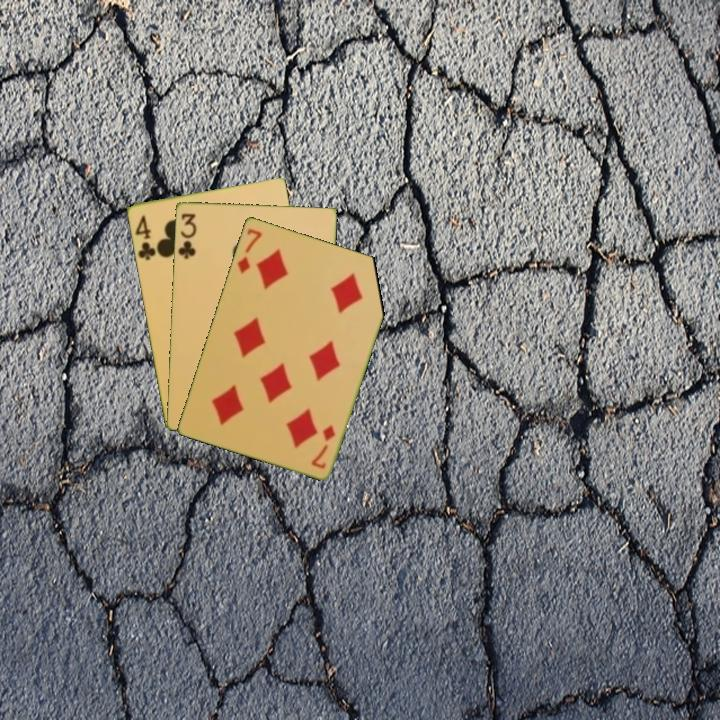3c: (174, 209, 199, 261)
4c: (131, 211, 160, 262)
7d: (233, 225, 264, 276), (307, 421, 338, 471)
